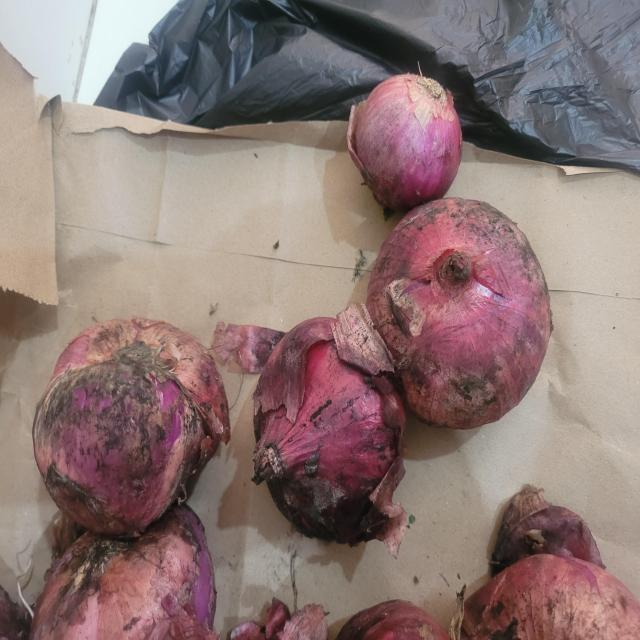mould: (347, 74, 462, 212)
rotten: (33, 317, 230, 537), (366, 198, 553, 429), (252, 304, 406, 557), (29, 504, 217, 640), (461, 554, 640, 640)
